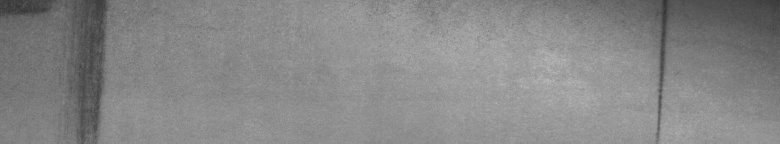hd: (656, 4, 668, 136)
